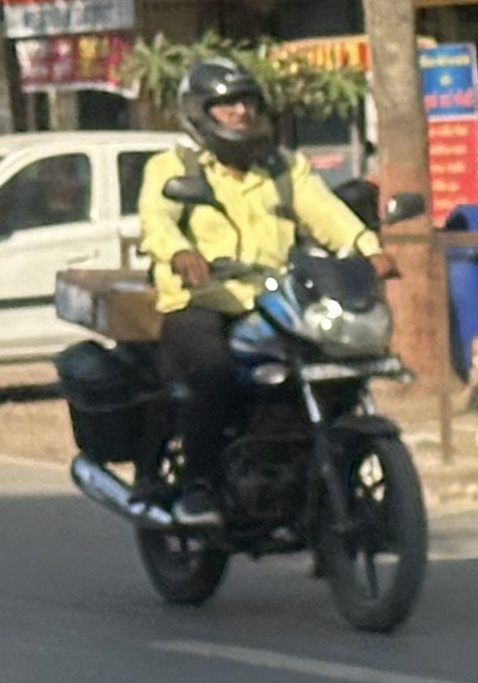BikeWithRider: (42, 47, 446, 642)
Helmet: (165, 49, 290, 171)
